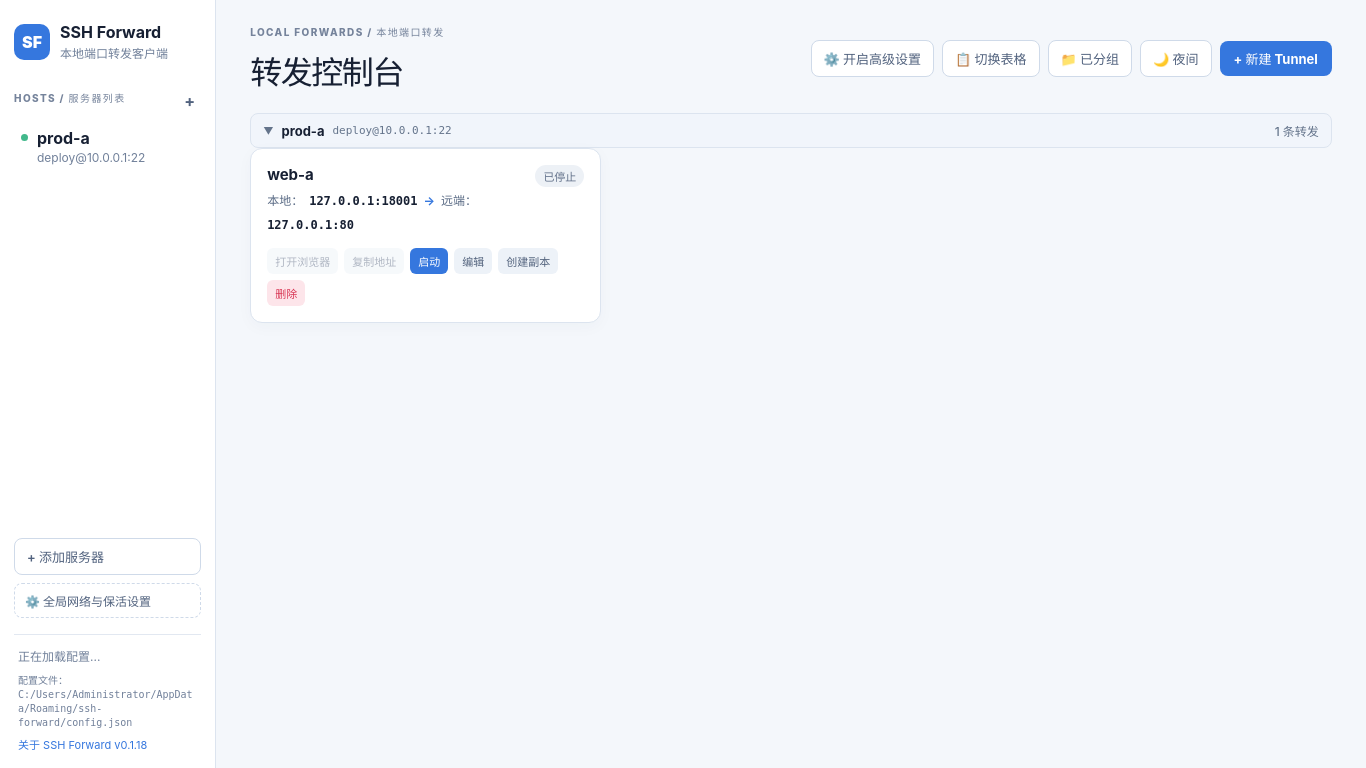
Test: 创建副本 › 副本端口与原条目相同时给出显式警告（否则要到启动才失败）
Expected: the text "prod-a" below "HOSTS / 服务器列表" is shown, top-left (37, 128), bottom-right (90, 148)
Click the button "创建副本" at (528, 261), box top-left (498, 248), bottom-right (558, 274)
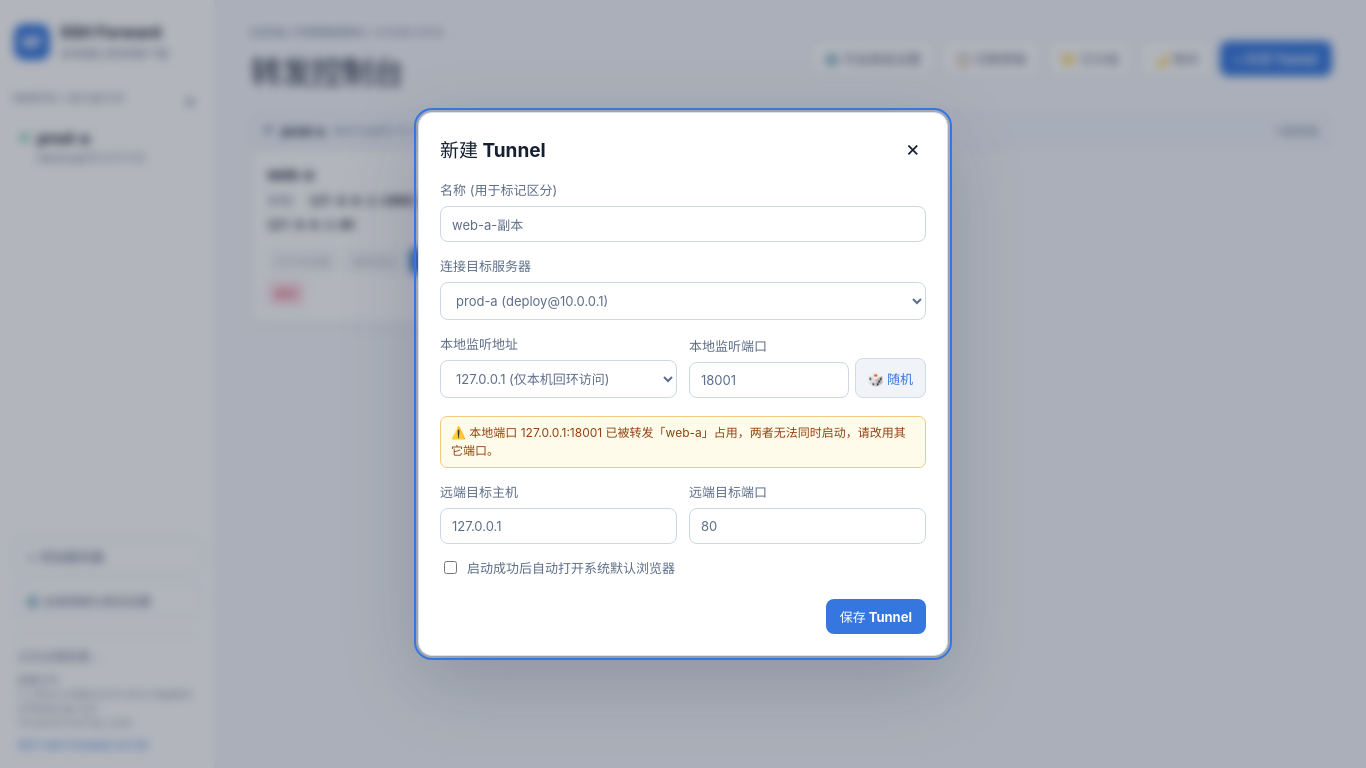
Now the dialog "新建 Tunnel" is shown, box top-left (418, 112), bottom-right (948, 656)
Now the text "⚠️ 本地端口 127.0.0.1:18001 已被转发「web-a」占用，两者无法同时启动，请改用其它端口。" is shown, box top-left (440, 416), bottom-right (926, 468)
